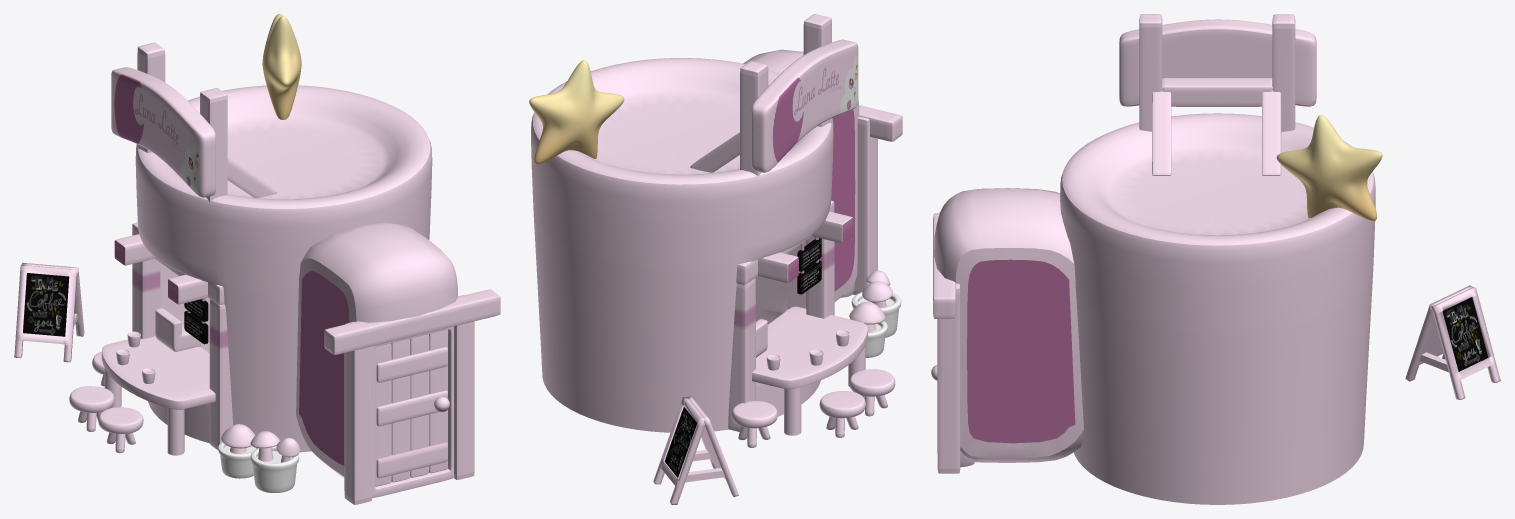
File: Coffee_shop.fbx
3 renders of one model, left to right at view 1: azimuth 30°, elevation 25°; view 2: azimuth 150°, elevation 25°; view 3: azimuth 270°, elevation 25°, orthographic. The views are drawn at different scales.
Visible parts, largest first — view 1: Sphere.009; view 2: Sphere.009; view 3: Sphere.009.
Part boxes in pixels (bbox=[...]): Sphere.009: bbox=[14, 14, 500, 504]; Sphere.009: bbox=[529, 14, 902, 504]; Sphere.009: bbox=[931, 14, 1500, 504].
Size of the model in its own units: 270 by 283 by 388.
